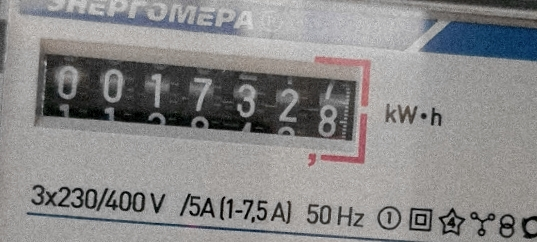0: (53, 61, 81, 102), (100, 65, 125, 105)
1: (145, 69, 165, 110)
2: (276, 86, 300, 124)
3: (234, 81, 258, 119)
7: (189, 74, 213, 114)
8: (316, 101, 337, 137)
screen: (22, 34, 381, 172)
